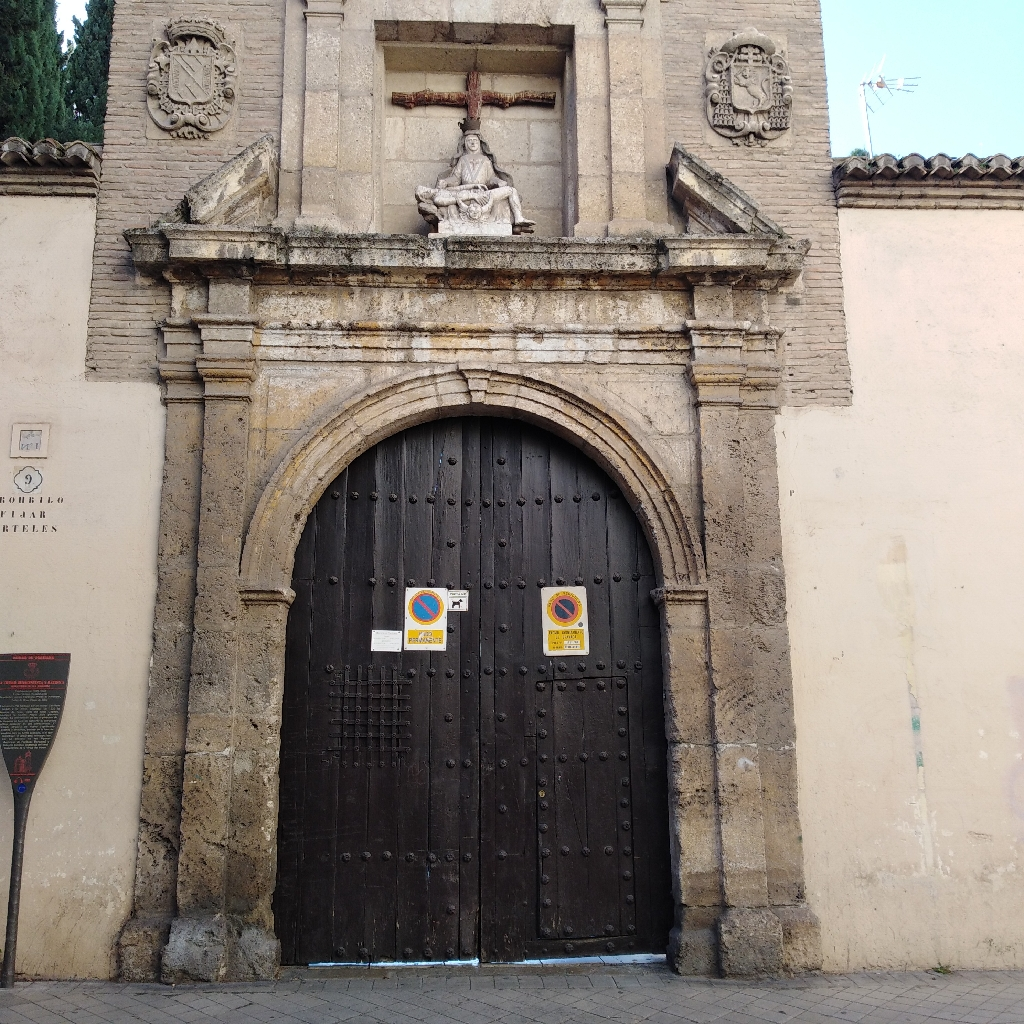arco-medio-punto: (261, 383, 683, 633)
fronton-partido: (142, 140, 792, 281)
vano-adintelado: (347, 1, 587, 252)
